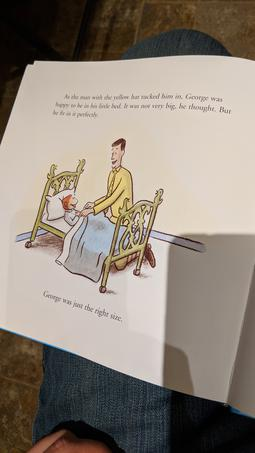text block: (52, 87, 236, 124), (38, 286, 126, 324)
